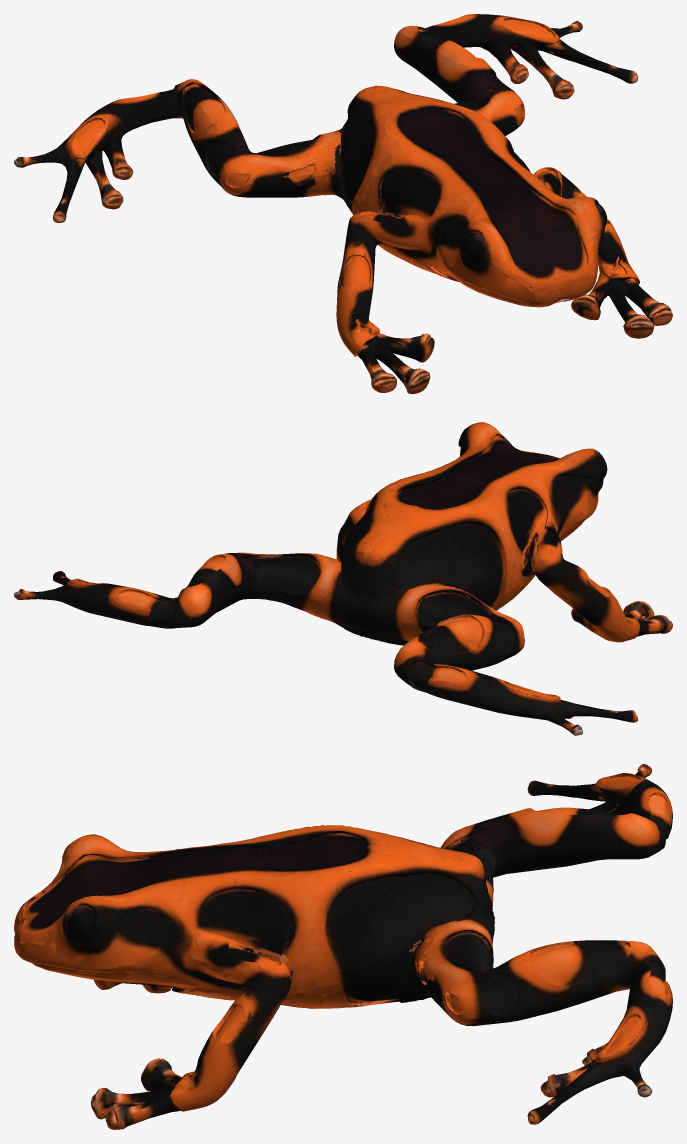
File: harlequin.swim.glb
3 renders of one model, top to bottom at view 1: azimuth 30°, elevation 25°; view 2: azimuth 150°, elevation 25°; view 3: azimuth 270°, elevation 25°, orthographic. The views are drawn at different scales.
Parts seen in each view (by area): view 1: harlequin.swim; view 2: harlequin.swim; view 3: harlequin.swim.
Boxes of the visible parts, left/top/right/bottom form: harlequin.swim: left=14, top=14, right=672, bottom=393; harlequin.swim: left=14, top=422, right=672, bottom=735; harlequin.swim: left=14, top=764, right=672, bottom=1129.
Size of the model in its own units: 0.0546 by 0.0156 by 0.0452.
Materials: 1 (1 with a texture image).
